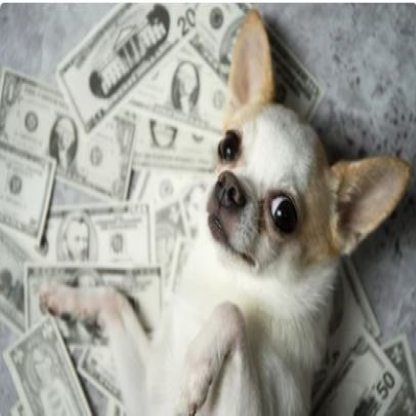chihuahua: (39, 9, 411, 416)
